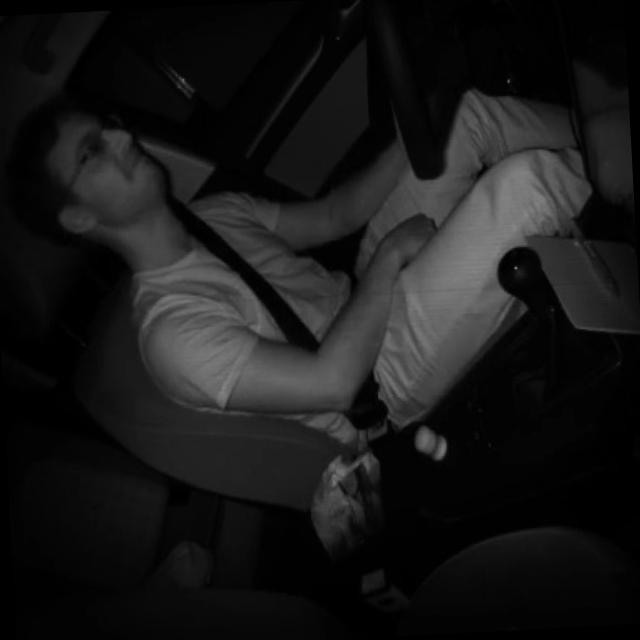pen: (565, 204, 624, 306)
